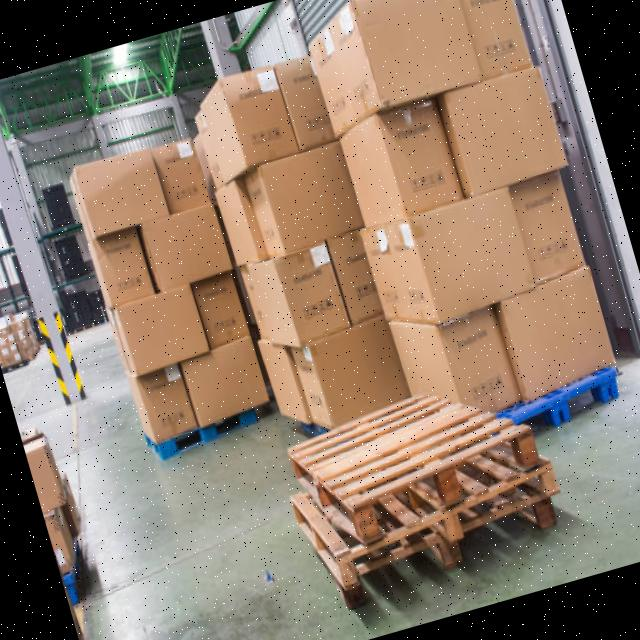Wooden-Pallets: (280, 379, 547, 544), (286, 491, 355, 610)
